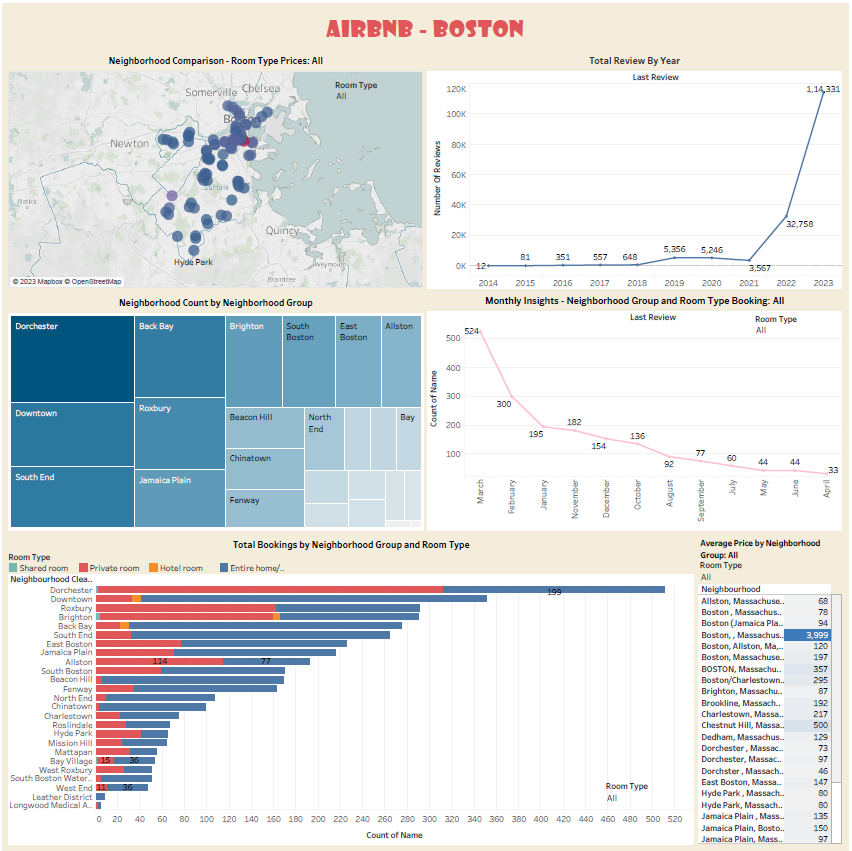

What the dashboard file says about the page in this screenshot:
{"tool":"tableau","page":{"name":"Dashboard 1","canvas":[1566,1568],"ordinal":0},"visuals":[{"type":"text","box":[8,8,1550,75.6]},{"type":"worksheet","title":"Sheet 1","mark":"Circle","rows":["latitude"],"cols":["longitude"],"box":[8,83.6,775,447.6]},{"type":"worksheet","title":"Sheet 6","mark":"Automatic","rows":["number_of_reviews"],"cols":["last_review"],"box":[783,83.6,775,447.6]},{"type":"filter","title":"Sheet 1","param":"[federated.1d6ontw0dlnjkg16ii42c1it9r41].[none:room_type:nk]","box":[616,138.5,160,65.5]},{"type":"worksheet","title":"Sheet 3","mark":"Automatic","box":[8,531.2,775,447.8]},{"type":"worksheet","title":"Sheet 2","mark":"Line","rows":["name"],"cols":["last_review"],"box":[783,531.2,775,447.8]},{"type":"filter","title":"Sheet 2","param":"[federated.1d6ontw0dlnjkg16ii42c1it9r41].[none:room_type:nk]","box":[1393,573,160,65]},{"type":"worksheet","title":"Sheet 5","mark":"Automatic","rows":["neighbourhood_cleansed"],"cols":["name"],"box":[8,978.9,1275.9,581.1]},{"type":"worksheet","title":"Sheet 7","mark":"Square","rows":["neighbourhood"],"box":[1283.9,978.9,274.1,581.1]},{"type":"legend","title":"Sheet 5","param":"[federated.1d6ontw0dlnjkg16ii42c1it9r41].[none:room_type:nk]","box":[10,1012,824,43]},{"type":"filter","title":"Sheet 7","param":"[federated.1d6ontw0dlnjkg16ii42c1it9r41].[none:room_type:nk]","box":[1291,1029,160,42]},{"type":"filter","title":"Sheet 5","param":"[federated.1d6ontw0dlnjkg16ii42c1it9r41].[none:room_type:nk]","box":[1117,1438,160,53]}]}

Visuals, with their boxes in screenshot pixels (x1, y1, x2, y2), scaled from the page's 1566x1568 canvas onto the 852x851 screenshot:
text: [x1=4, y1=4, x2=848, y2=45]
"Sheet 1" worksheet (Circle marks): [x1=4, y1=45, x2=426, y2=288]
"Sheet 6" worksheet: [x1=426, y1=45, x2=848, y2=288]
"Sheet 1" filter: [x1=335, y1=75, x2=422, y2=111]
"Sheet 3" worksheet: [x1=4, y1=288, x2=426, y2=531]
"Sheet 2" worksheet (Line marks): [x1=426, y1=288, x2=848, y2=531]
"Sheet 2" filter: [x1=758, y1=311, x2=845, y2=346]
"Sheet 5" worksheet: [x1=4, y1=531, x2=699, y2=847]
"Sheet 7" worksheet (Square marks): [x1=699, y1=531, x2=848, y2=847]
"Sheet 5" legend: [x1=5, y1=549, x2=454, y2=573]
"Sheet 7" filter: [x1=702, y1=558, x2=789, y2=581]
"Sheet 5" filter: [x1=608, y1=780, x2=695, y2=809]
